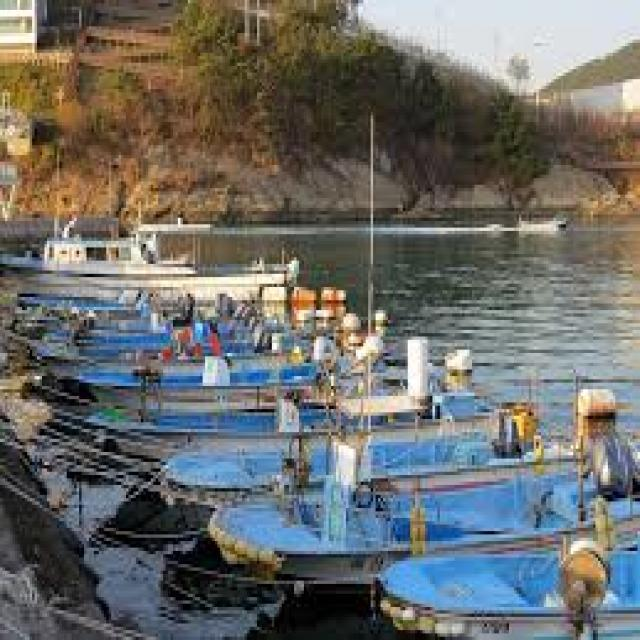Ship: (191, 466, 640, 572), (359, 525, 640, 640), (6, 216, 323, 302), (51, 377, 506, 433)
